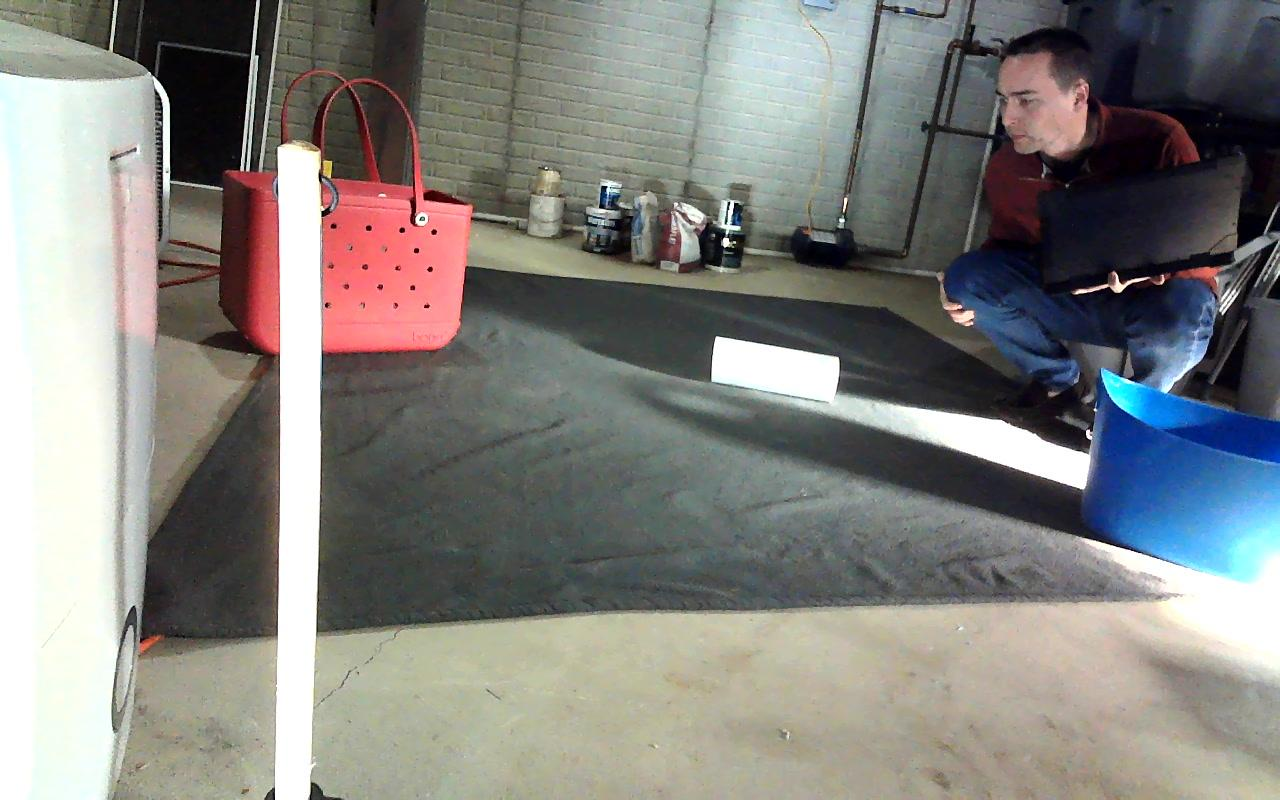coral: (710, 336, 840, 403)
